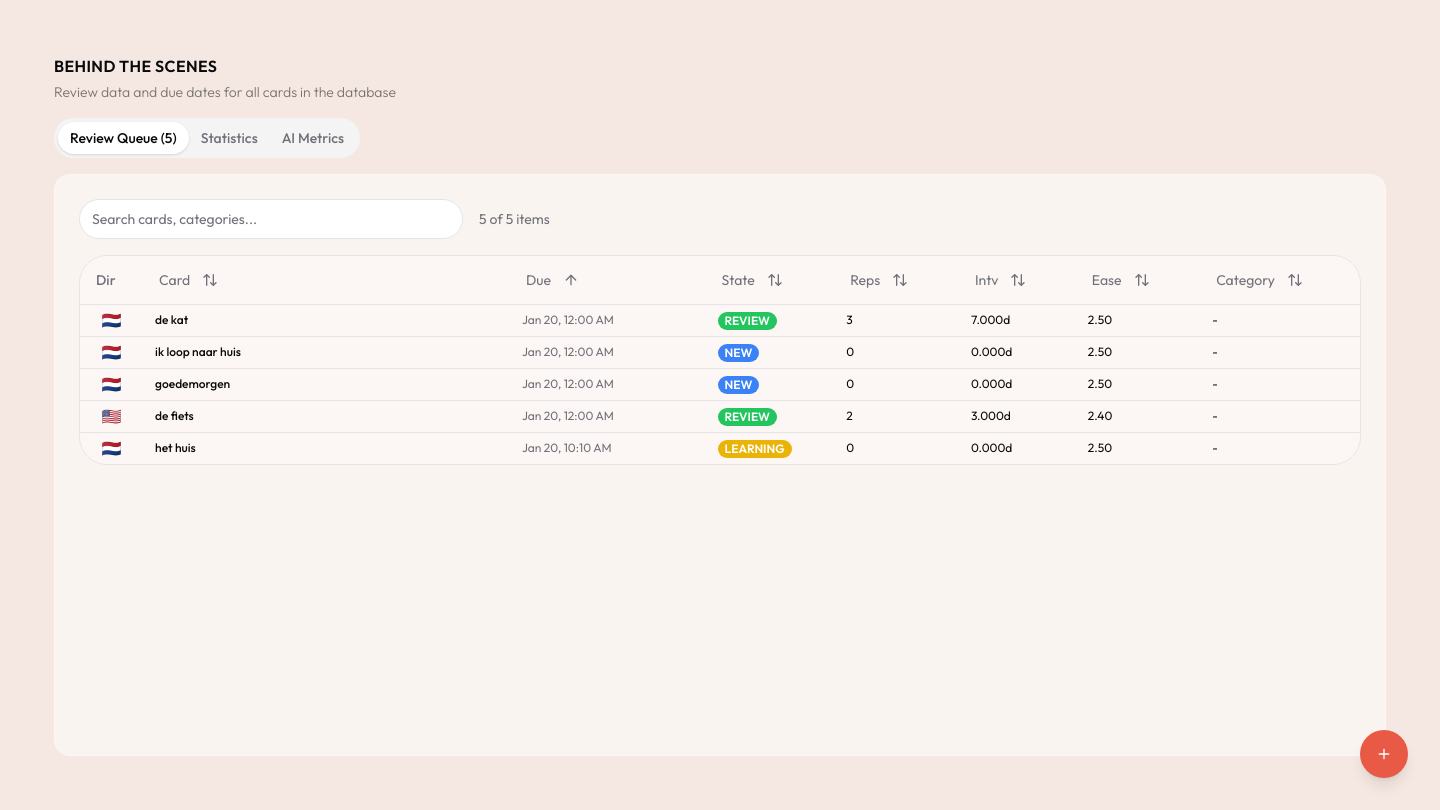
Test: Debug Page › switches to Statistics tab and shows card counts
Check: the heading "Behind the Scenes" is shown, box x1=54 y1=56 x2=217 y2=76
# Click Statistics tab
Click the tab "Statistics" at (229,138), box x1=189 y1=122 x2=270 y2=154
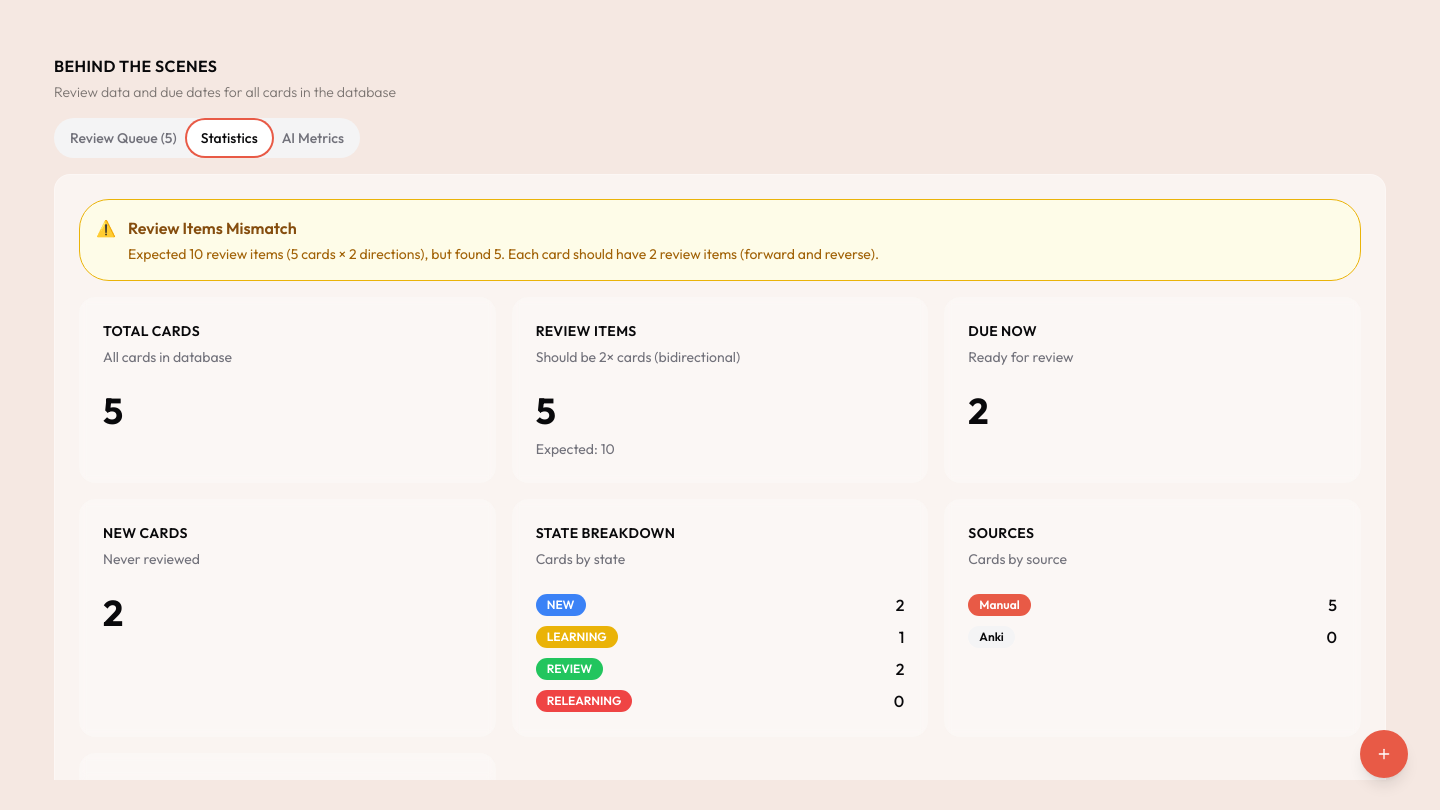
Check: the text "Total Cards" is shown, box x1=103 y1=322 x2=200 y2=340
Check: the text "Review Items" is shown, box x1=536 y1=322 x2=637 y2=340
Check: the text "Due Now" is shown, box x1=968 y1=322 x2=1037 y2=340
